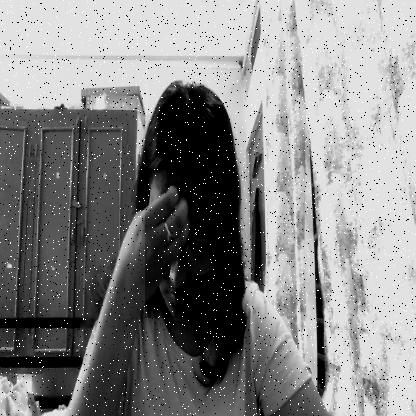Distracted: (145, 104, 228, 318)
